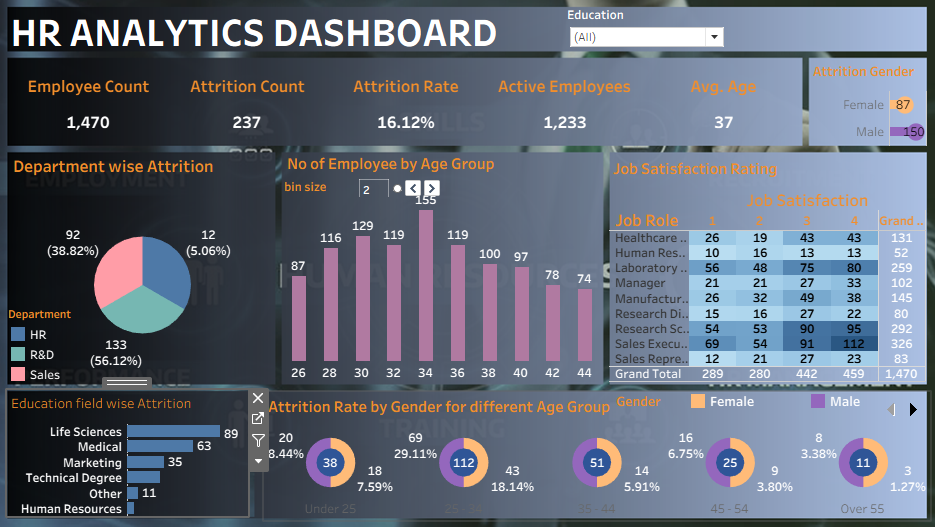

The dashboard page shown, as its layout file describes it:
{"tool":"tableau","page":{"name":"HR ANALYSTIC DASHBOARD","canvas":[1000,1000],"units":"permille","ordinal":0},"visuals":[{"type":"image","param":"C:/Users/ASUS/Desktop/tableau presention.png","box":[7.7,14.5,984.7,971.1]},{"type":"filter","title":"Department wise Attrition","param":"[federated.0do9na40lbrzba1bmdccx1yfv4ou].[none:Education:nk]","box":[595.6,36.2,153,81.4]},{"type":"text","box":[61.2,41.6,541.1,77.8]},{"type":"worksheet","title":"KPI","mark":"Automatic","box":[62.1,128.4,759.1,160.9]},{"type":"worksheet","title":"Attrition Gender","mark":"Automatic","rows":["Gender"],"cols":["Calculation_0164152809373696","Calculation_0164152809373696"],"box":[827,130.2,112.8,159.1]},{"type":"worksheet","title":"No of Employee by Age Group","mark":"Automatic","rows":["Employee Count"],"cols":["Age (bin)"],"box":[324.1,294.8,304,421.3]},{"type":"worksheet","title":"Department wise Attrition","mark":"Pie","box":[62.1,298.4,255.3,417.7]},{"type":"worksheet","title":"Job Satisfaction Rating","mark":"Square","rows":["Job Role"],"cols":["Job Satisfaction"],"box":[635.8,303.8,303.1,412.3]},{"type":"parameter","param":"[Parameters].[Parameter 1]","box":[325.1,343.6,152,38]},{"type":"legend","title":"Department wise Attrition","param":"[federated.0do9na40lbrzba1bmdccx1yfv4ou].[none:Department:nk]","box":[61.2,578.7,84.1,141.1]},{"type":"worksheet","title":"Education field wise Attrition","mark":"Automatic","rows":["Education Field"],"cols":["Calculation_0164152809373696"],"box":[60.2,730.6,230.4,227.8]},{"type":"legend","title":"Attrition Rate by Gender for different Age Group","param":"[federated.0do9na40lbrzba1bmdccx1yfv4ou].[none:Gender:nk]","box":[642.5,732.4,296.4,66.9]},{"type":"worksheet","title":"Attrition Rate by Gender for different Age Group","mark":"Pie","rows":["Calculation_0263384123531265","Calculation_0263384123531265"],"cols":["CF_age band"],"box":[305.9,734.2,636.7,231.5]}]}

Visuals, with their boxes on the dashboard's canvas, which has no fixed pixel size, in thousandths of its width and height (x1, y1, x2, y2). These are canvas units, not pixel positions in the 935x527 screenshot, which may show the page scaled, cropped or inside an application window:
image: <box>8,14,992,986</box>
"Department wise Attrition" filter: <box>596,36,749,118</box>
text: <box>61,42,602,119</box>
"KPI" worksheet: <box>62,128,821,289</box>
"Attrition Gender" worksheet: <box>827,130,940,289</box>
"No of Employee by Age Group" worksheet: <box>324,295,628,716</box>
"Department wise Attrition" worksheet (Pie marks): <box>62,298,317,716</box>
"Job Satisfaction Rating" worksheet (Square marks): <box>636,304,939,716</box>
parameter: <box>325,344,477,382</box>
"Department wise Attrition" legend: <box>61,579,145,720</box>
"Education field wise Attrition" worksheet: <box>60,731,291,958</box>
"Attrition Rate by Gender for different Age Group" legend: <box>642,732,939,799</box>
"Attrition Rate by Gender for different Age Group" worksheet (Pie marks): <box>306,734,943,966</box>
